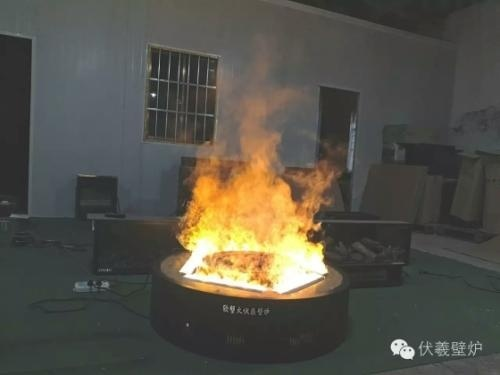fire: (176, 103, 337, 292)
